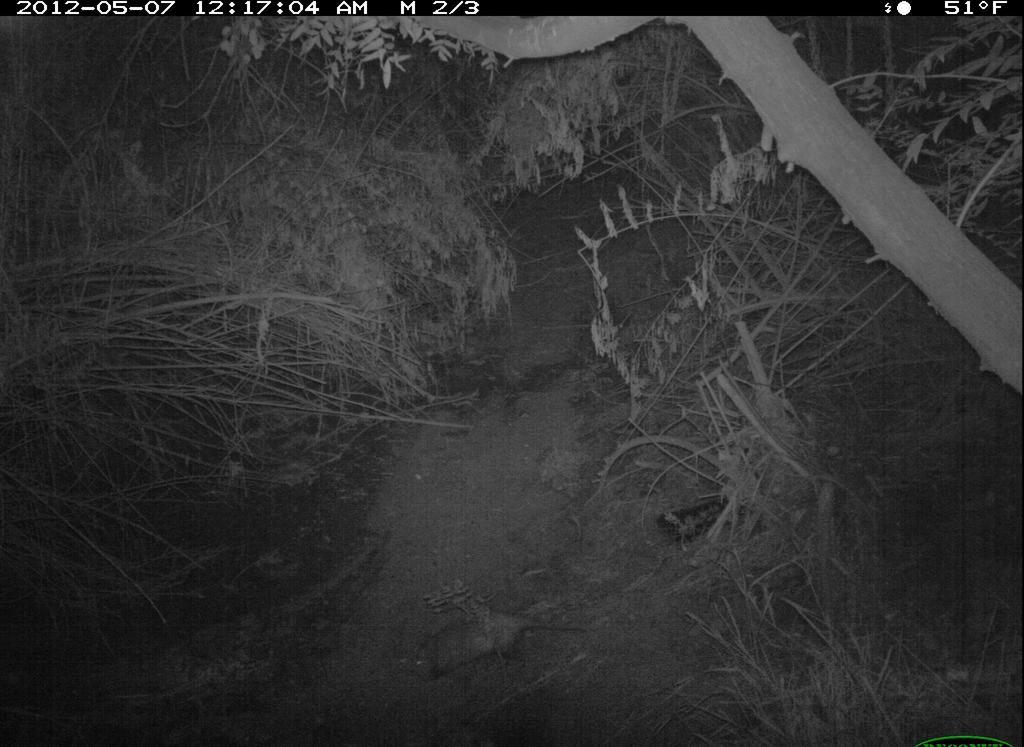opossum: (391, 602, 617, 697)
